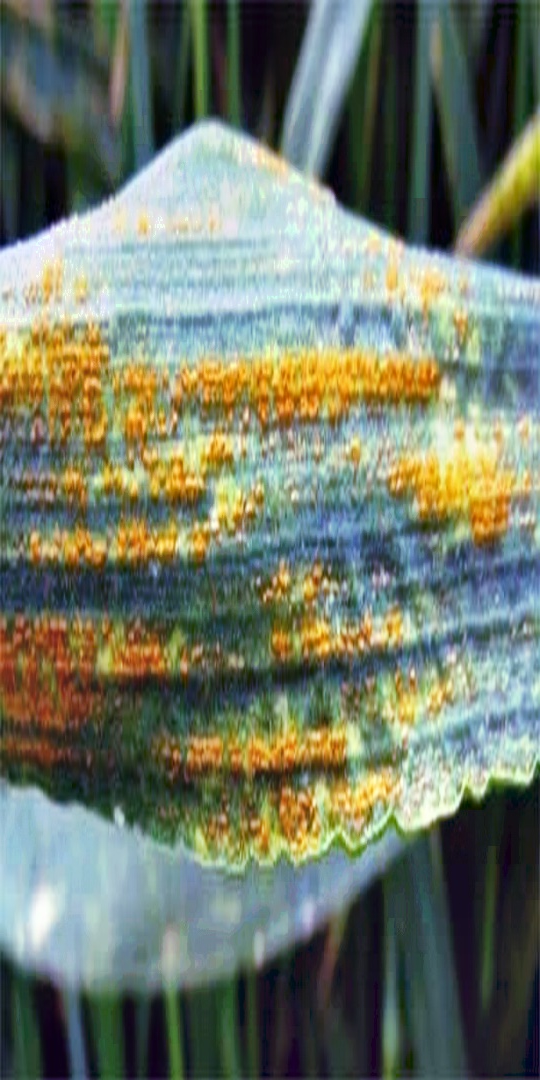Leaf Rust: (20, 247, 477, 858)
